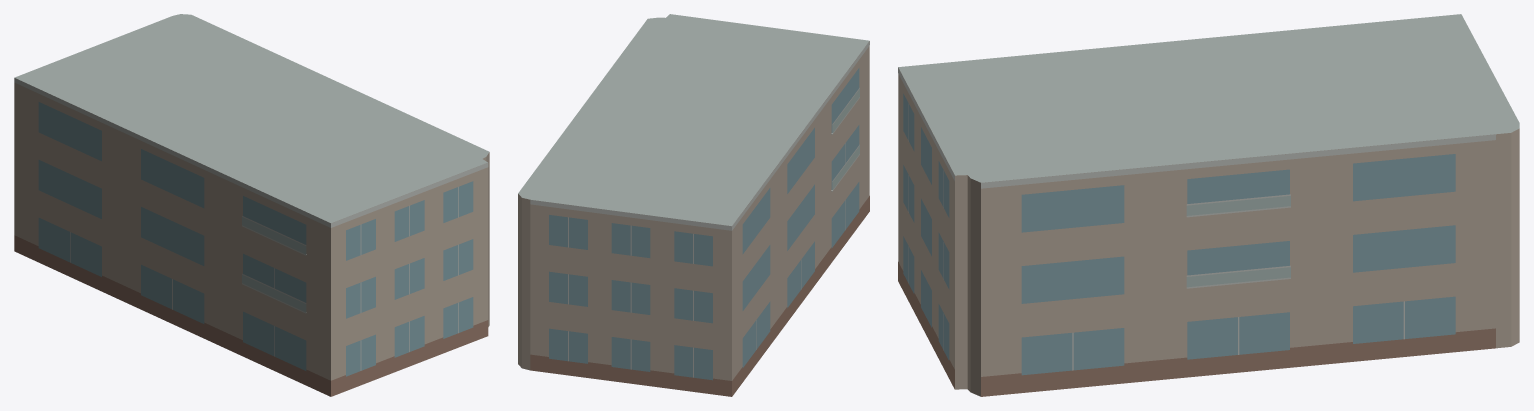
The model's file is survey-upis-32493223.glb.
3 views of the same model, side by side, from view 1: azimuth 30°, elevation 25°; view 2: azimuth 150°, elevation 25°; view 3: azimuth 270°, elevation 25° (orthographic). The views are drawn at different scales.
Visible parts, largest first — view 1: survey-upis-32493223.tmp; view 2: survey-upis-32493223.tmp; view 3: survey-upis-32493223.tmp.
Part boxes in pixels (box(x1,y1,x2,y2)): survey-upis-32493223.tmp: box(14, 14, 489, 396); survey-upis-32493223.tmp: box(518, 14, 869, 396); survey-upis-32493223.tmp: box(898, 14, 1519, 396).
Size of the model in its own units: 15.06 by 8.9 by 23.43.
